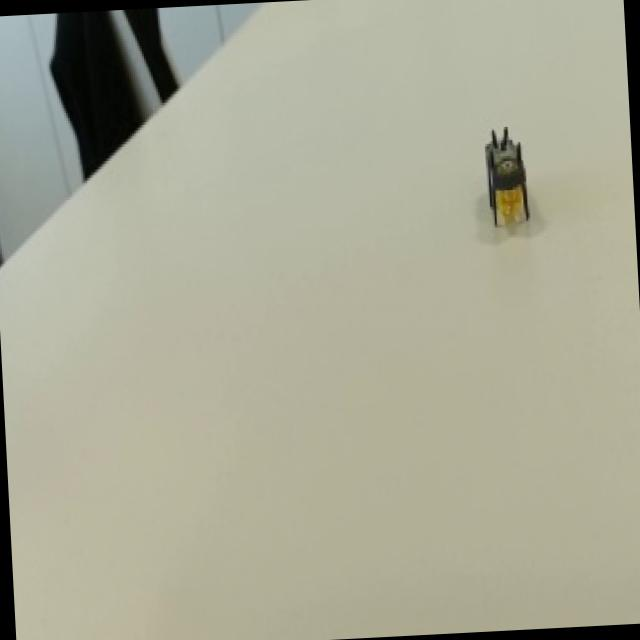6_NanoBug_GrisOscuro: (471, 119, 552, 230)
